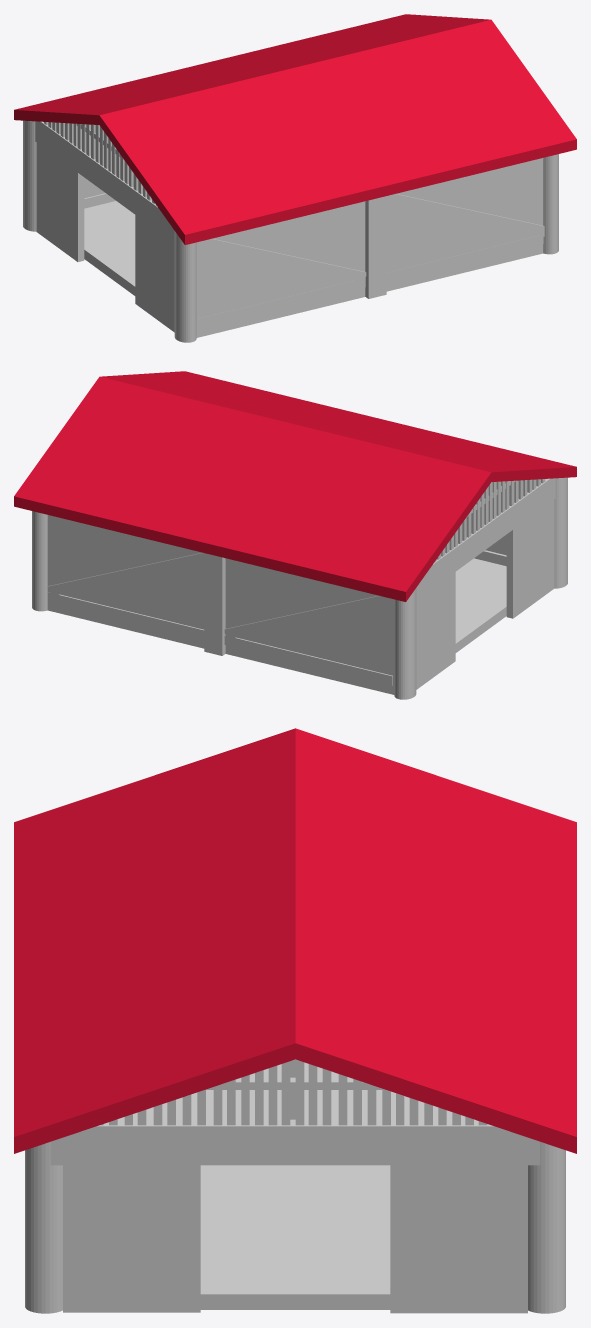
File: Hangar_2.0.fbx
3 renders of one model, top to bottom at view 1: azimuth 30°, elevation 25°; view 2: azimuth 150°, elevation 25°; view 3: azimuth 270°, elevation 25°, orthographic. The views are drawn at different scales.
Parts seen in each view (by area): view 1: Cube.003, Cube.001, Cube.004, Cube.035, Cube.036, Cube.005, Cylinder.001, Cube.071, Cube.079, Cube.074, Cube.078, Cube.072 (+2 smaller); view 2: Cube.003, Cube, Cube.004, Cube.036, Cube.035, Cube.005, Cylinder, Cube.018, Cube.075, Cube.077, Cube.083, Cube.081 (+2 smaller); view 3: Cube.003, Cube.004, Cube.042, Cube.041, Cube.070, Cylinder.002, Cylinder.003, Cube.002.
Boxes of the visible parts, left/top/right/bottom form: Cube.003: left=14, top=14, right=576, bottom=244; Cube.001: left=196, top=159, right=543, bottom=328; Cube.004: left=84, top=201, right=543, bottom=337; Cube.035: left=36, top=143, right=84, bottom=261; Cube.036: left=135, top=215, right=174, bottom=332; Cube.005: left=35, top=121, right=174, bottom=243; Cylinder.001: left=174, top=231, right=196, bottom=342; Cube.071: left=365, top=196, right=386, bottom=298; Cube.079: left=196, top=238, right=366, bottom=282; Cube.074: left=386, top=194, right=544, bottom=236; Cube.078: left=198, top=278, right=365, bottom=328; Cube.072: left=386, top=235, right=543, bottom=281; Cube.003: left=14, top=371, right=576, bottom=601; Cube: left=47, top=515, right=394, bottom=685; Cube.004: left=47, top=558, right=506, bottom=694; Cube.036: left=506, top=500, right=554, bottom=618; Cube.035: left=416, top=572, right=455, bottom=689; Cube.005: left=416, top=478, right=555, bottom=600; Cylinder: left=394, top=588, right=416, bottom=699; Cube.018: left=204, top=553, right=225, bottom=655; Cube.075: left=224, top=595, right=394, bottom=639; Cube.077: left=224, top=635, right=392, bottom=685; Cube.083: left=47, top=552, right=204, bottom=595; Cube.081: left=48, top=592, right=204, bottom=639; Cube.003: left=14, top=728, right=576, bottom=1153; Cube.004: left=117, top=1062, right=465, bottom=1309; Cube.042: left=390, top=1165, right=527, bottom=1313; Cube.041: left=63, top=1165, right=200, bottom=1312; Cube.070: left=50, top=1119, right=540, bottom=1165; Cylinder.002: left=25, top=1142, right=62, bottom=1313; Cylinder.003: left=528, top=1142, right=565, bottom=1313; Cube.002: left=206, top=1077, right=382, bottom=1089.
Bounding box in the file's own units: 8654 × 3580 × 6539.
